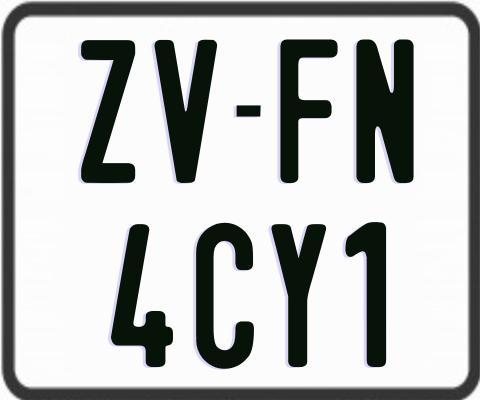1: (344, 220, 386, 370)
4: (109, 222, 176, 370)
C: (194, 220, 257, 367)
F: (279, 39, 338, 187)
N: (354, 37, 412, 180)
V: (153, 37, 217, 185)
Y: (268, 224, 325, 370)
Z: (81, 40, 141, 184)
